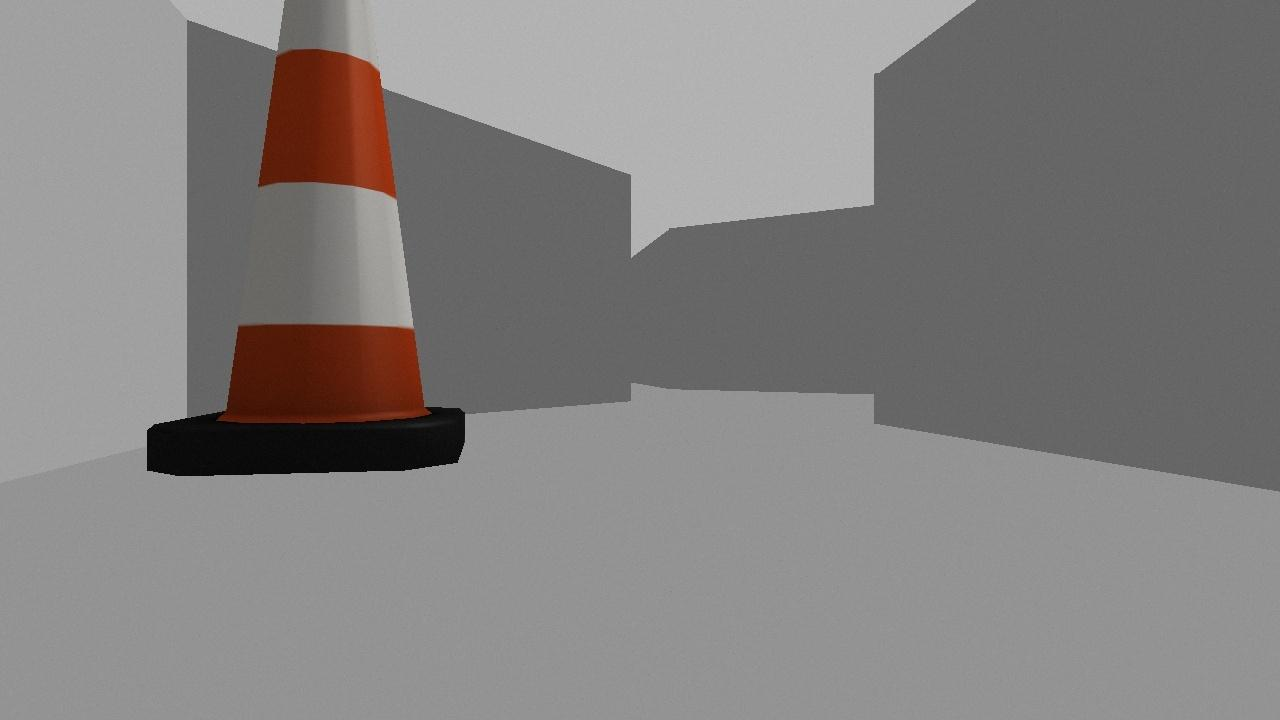cone_barrel: (145, 0, 466, 474)
